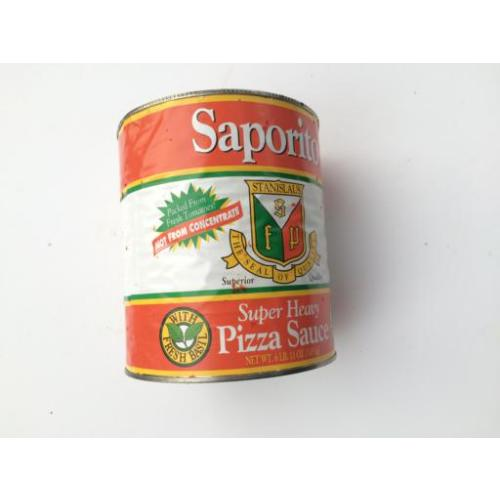metal: (114, 91, 339, 378)
